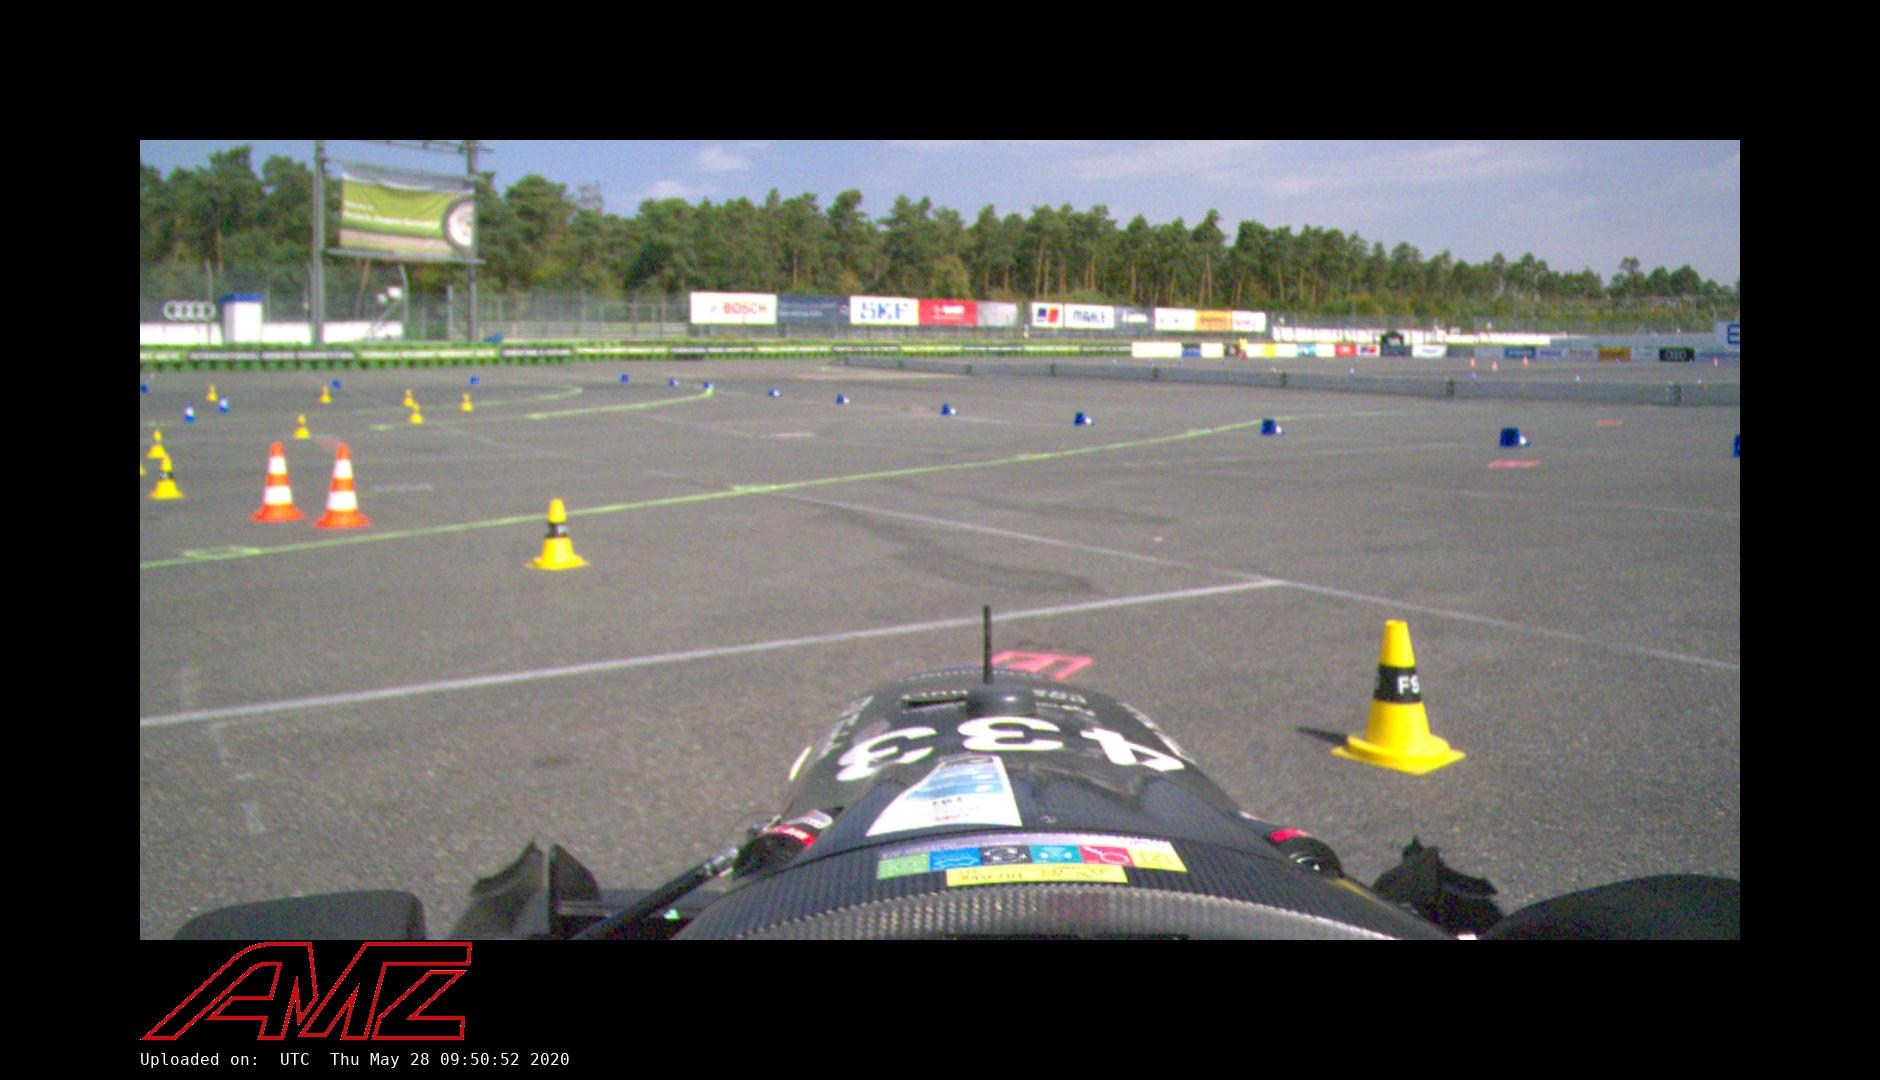blue_cone: (1498, 426, 1531, 450), (1259, 419, 1286, 437), (1073, 412, 1096, 428), (181, 403, 198, 422), (216, 395, 230, 413), (940, 403, 959, 416), (835, 394, 852, 404), (767, 388, 782, 397)
large_orange_cone: (311, 443, 373, 530), (248, 441, 306, 522)
yellow_cone: (1333, 618, 1464, 773), (524, 499, 587, 571), (148, 457, 183, 499), (147, 430, 167, 459), (293, 413, 311, 439), (408, 403, 424, 424), (318, 385, 333, 404), (458, 391, 473, 412), (402, 388, 414, 407)
